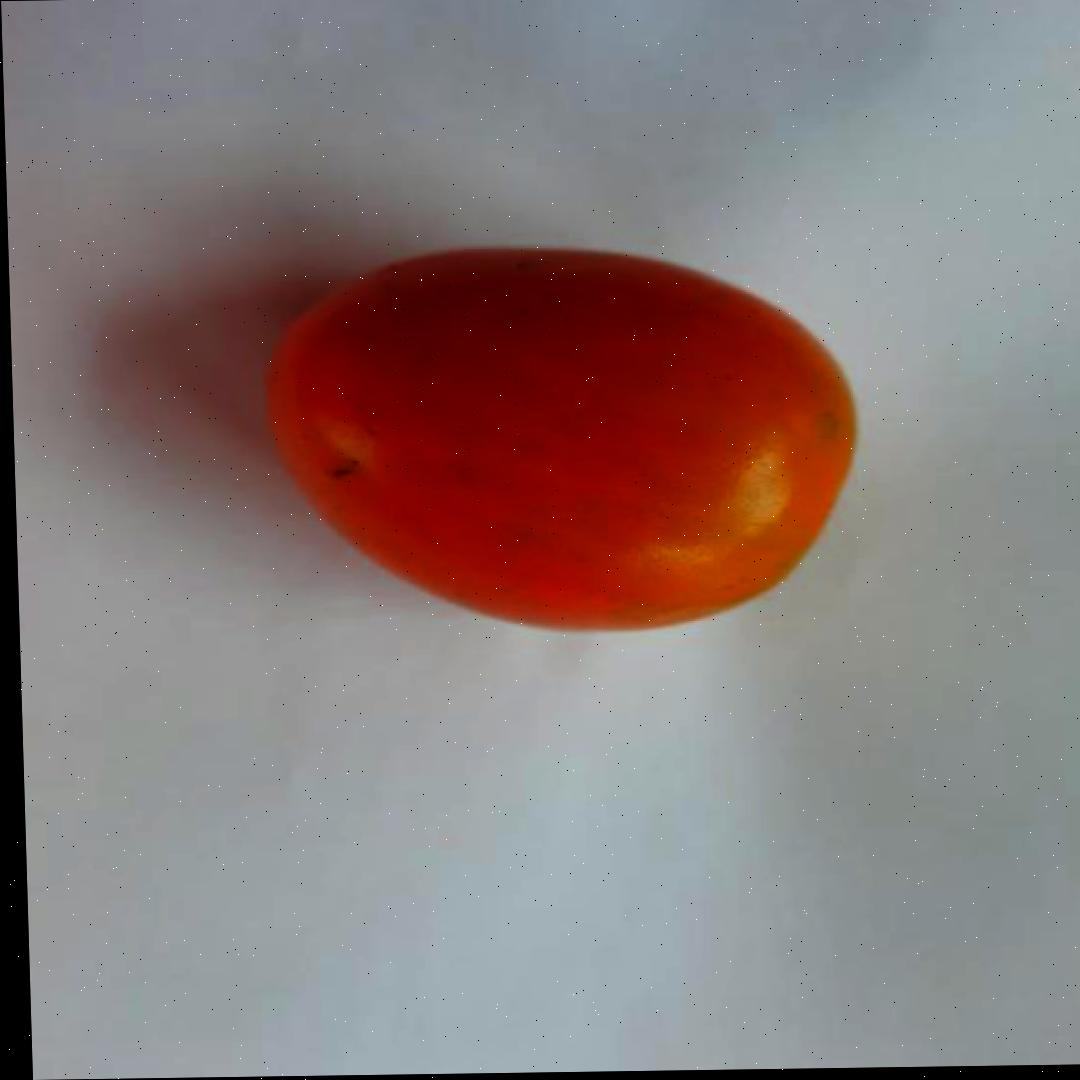setengah_matang: (255, 236, 869, 643)
